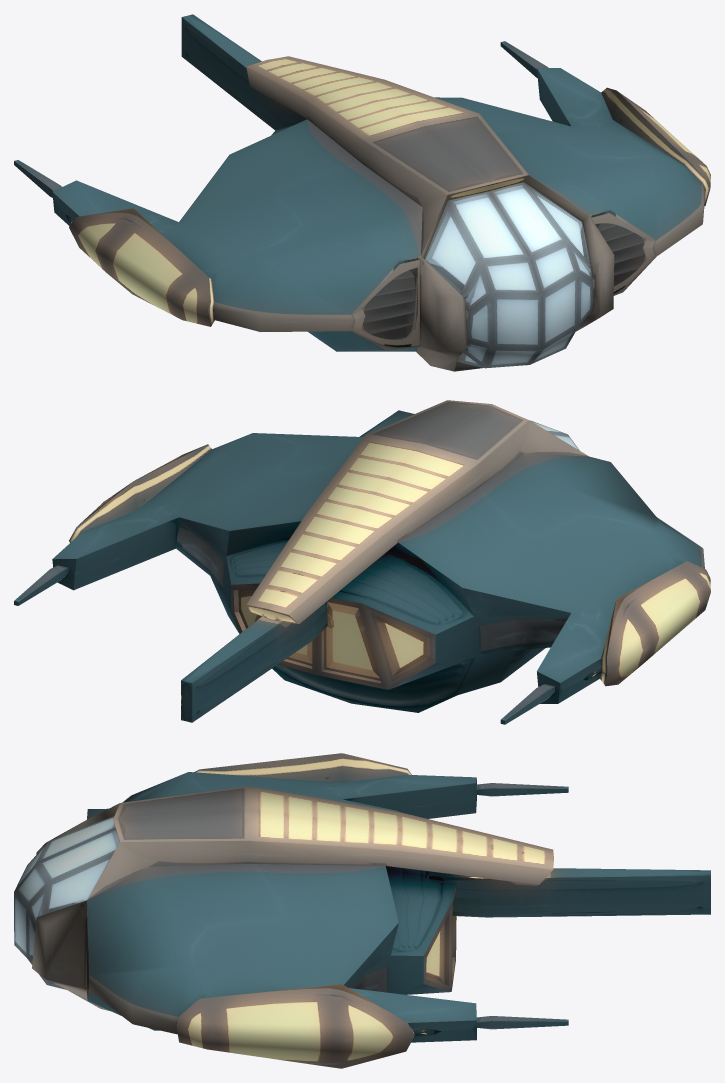
The model's file is vehicle_spacecraft_ship_devastator_001_gr_mesh.FBX.
The picture shows the model from 3 angles, top to bottom: view 1: azimuth 30°, elevation 25°; view 2: azimuth 150°, elevation 25°; view 3: azimuth 270°, elevation 25°; orthographic projection.
Parts seen in each view (by area): view 1: vehicle_spacecraft_ship_devastator_001_gr; view 2: vehicle_spacecraft_ship_devastator_001_gr; view 3: vehicle_spacecraft_ship_devastator_001_gr.
Part boxes in pixels (box(x1,y1,x2,y2)): vehicle_spacecraft_ship_devastator_001_gr: box(14, 14, 710, 371); vehicle_spacecraft_ship_devastator_001_gr: box(14, 400, 710, 724); vehicle_spacecraft_ship_devastator_001_gr: box(14, 753, 710, 1068).
Bounding box in the file's own units: 6.35 × 2.31 × 7.11.
